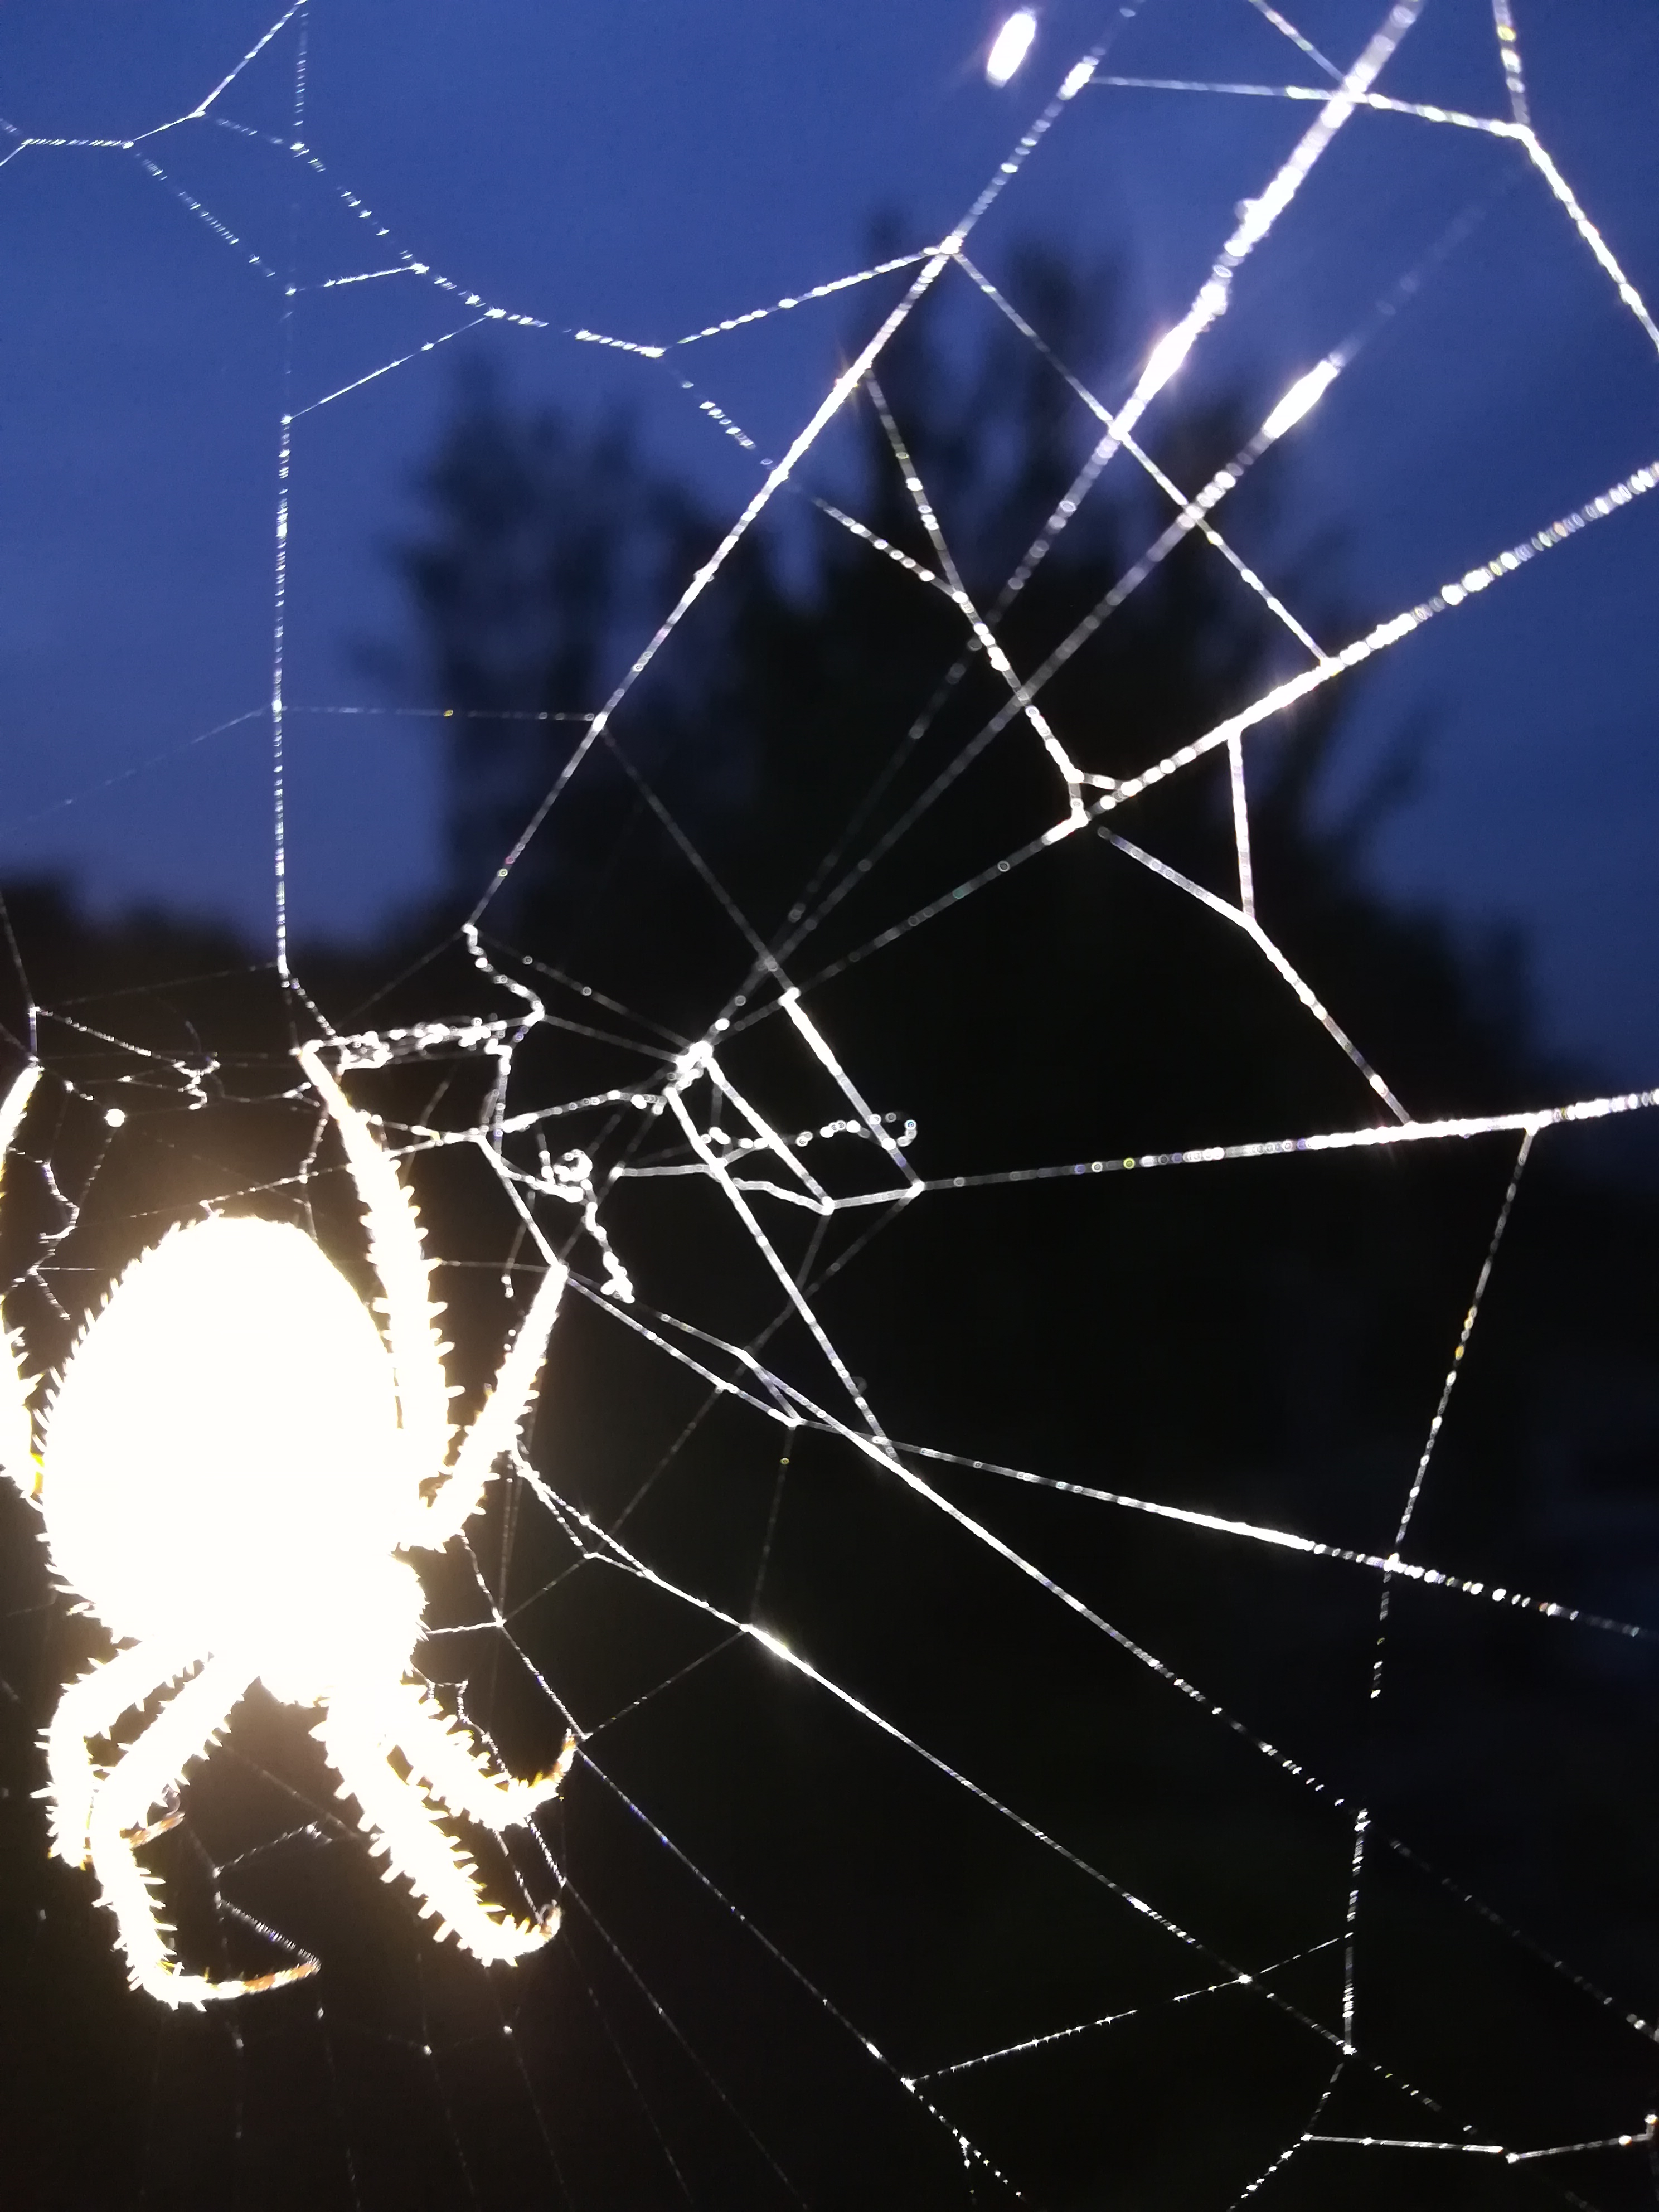spider: (0, 948, 657, 2041)
